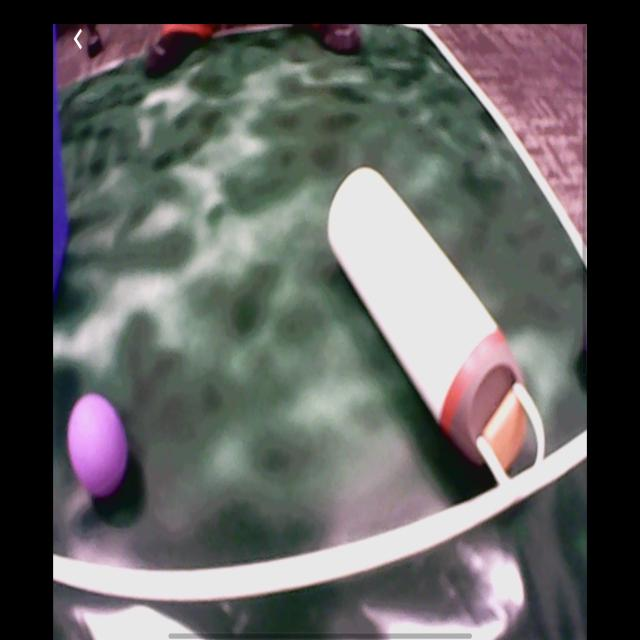ball: (68, 395, 128, 505)
